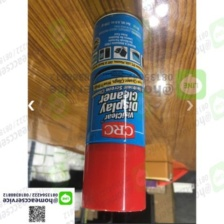aerosol_cans: (78, 8, 149, 216)
